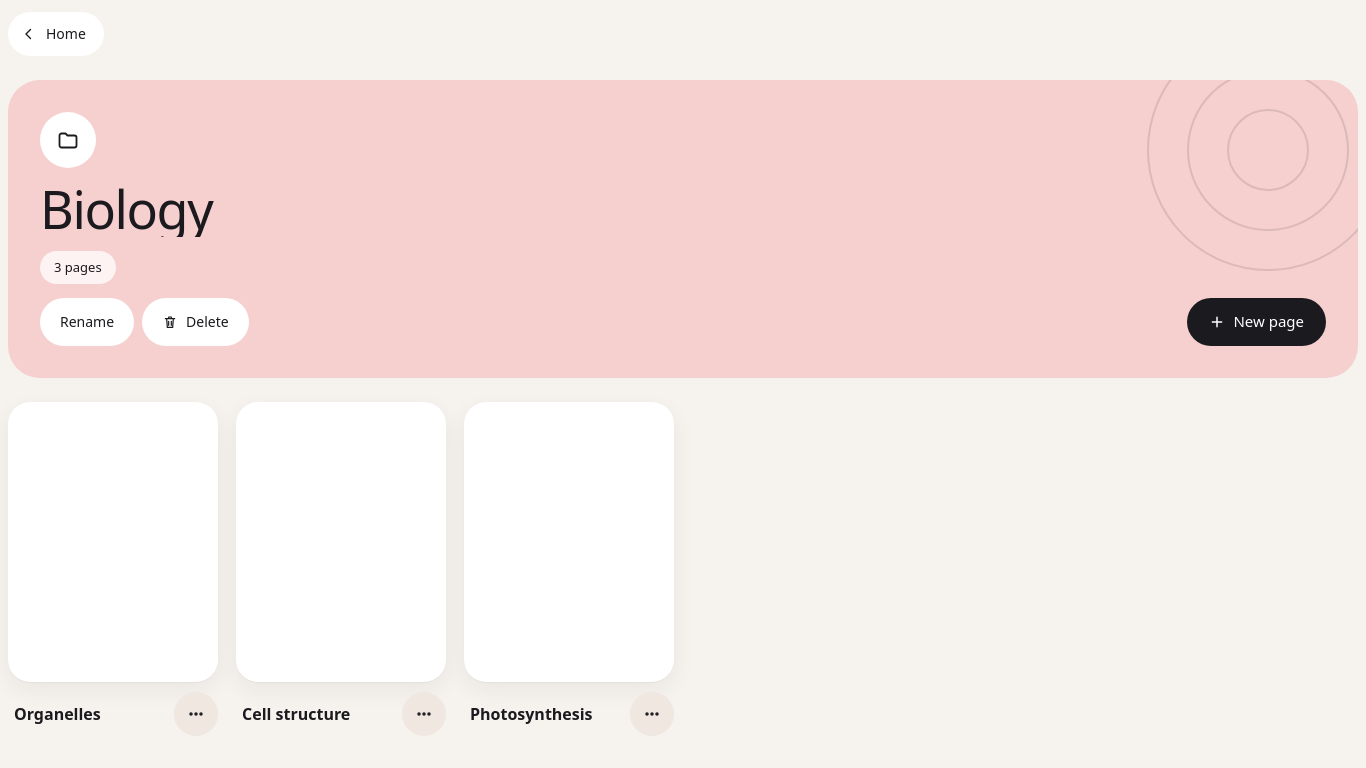
FolderView › renames the folder from a dialog that closes on success
Click the button "Rename" at (87, 322), box x1=40 y1=298 x2=134 y2=346
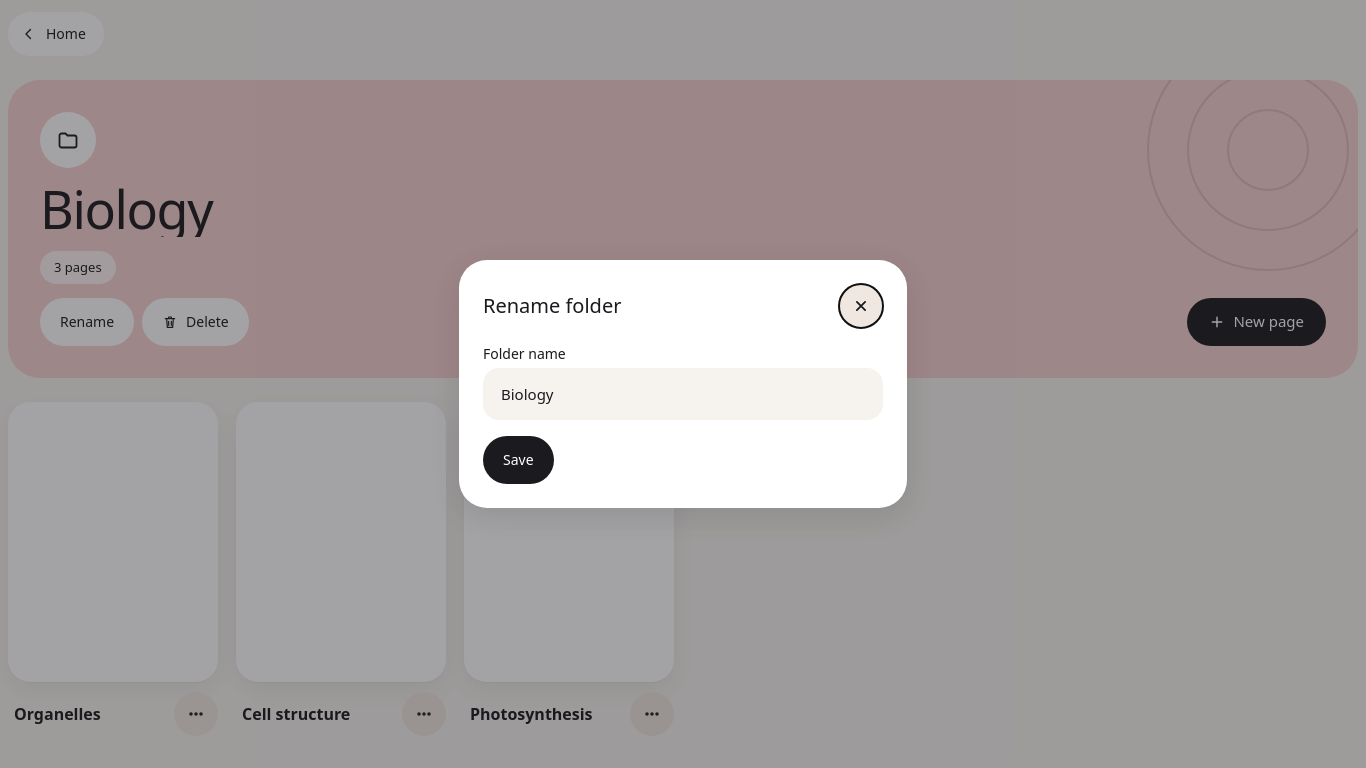
Result: the field labelled "Folder name" holds "Biology"
Replace the text in the field labelled "Folder name" with "Chemistry" at (683, 394), box x1=483 y1=368 x2=883 y2=420
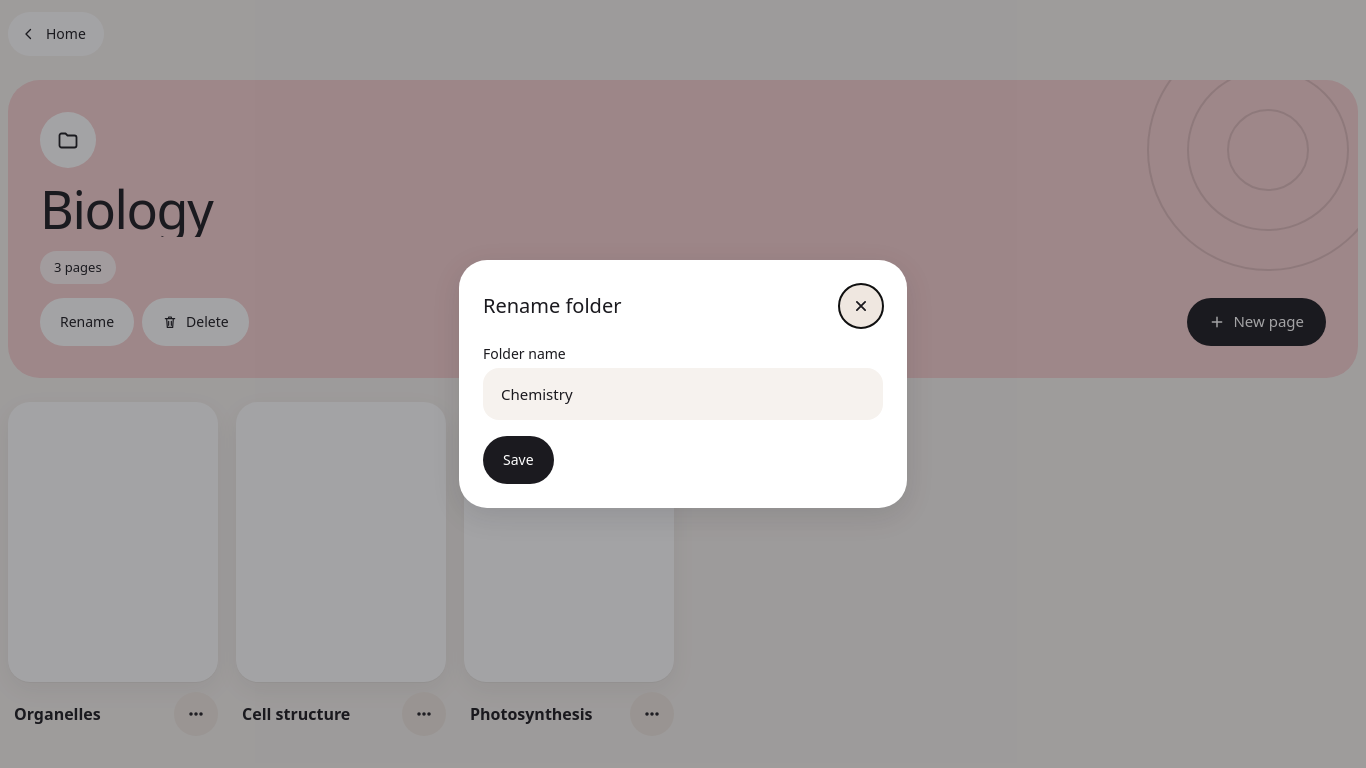
Click the button "Save" at (518, 460), box x1=483 y1=436 x2=554 y2=484
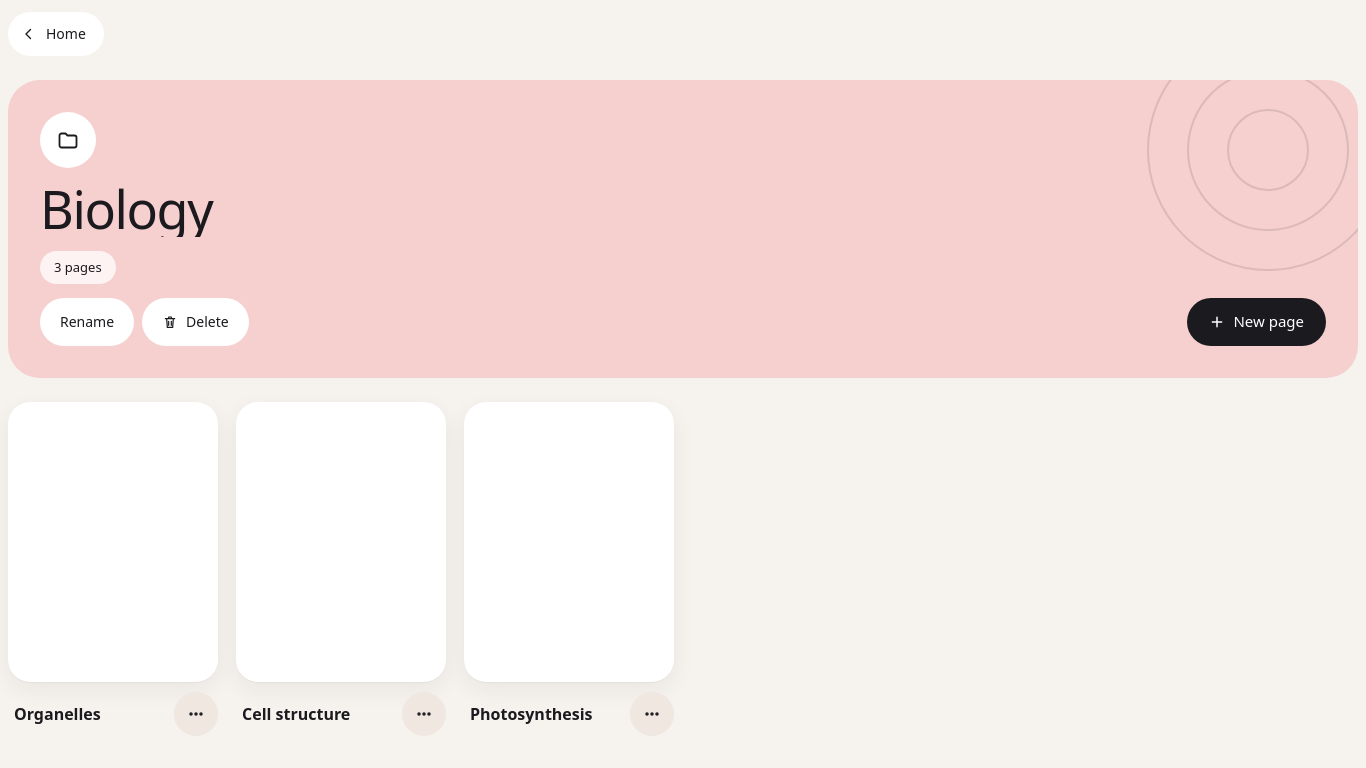
Result: the dialog is gone
